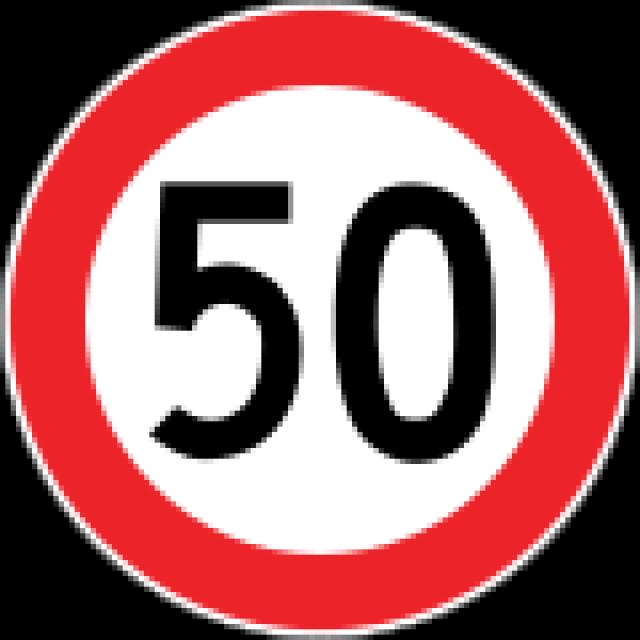Speed Limit -50-: (141, 172, 501, 474)
